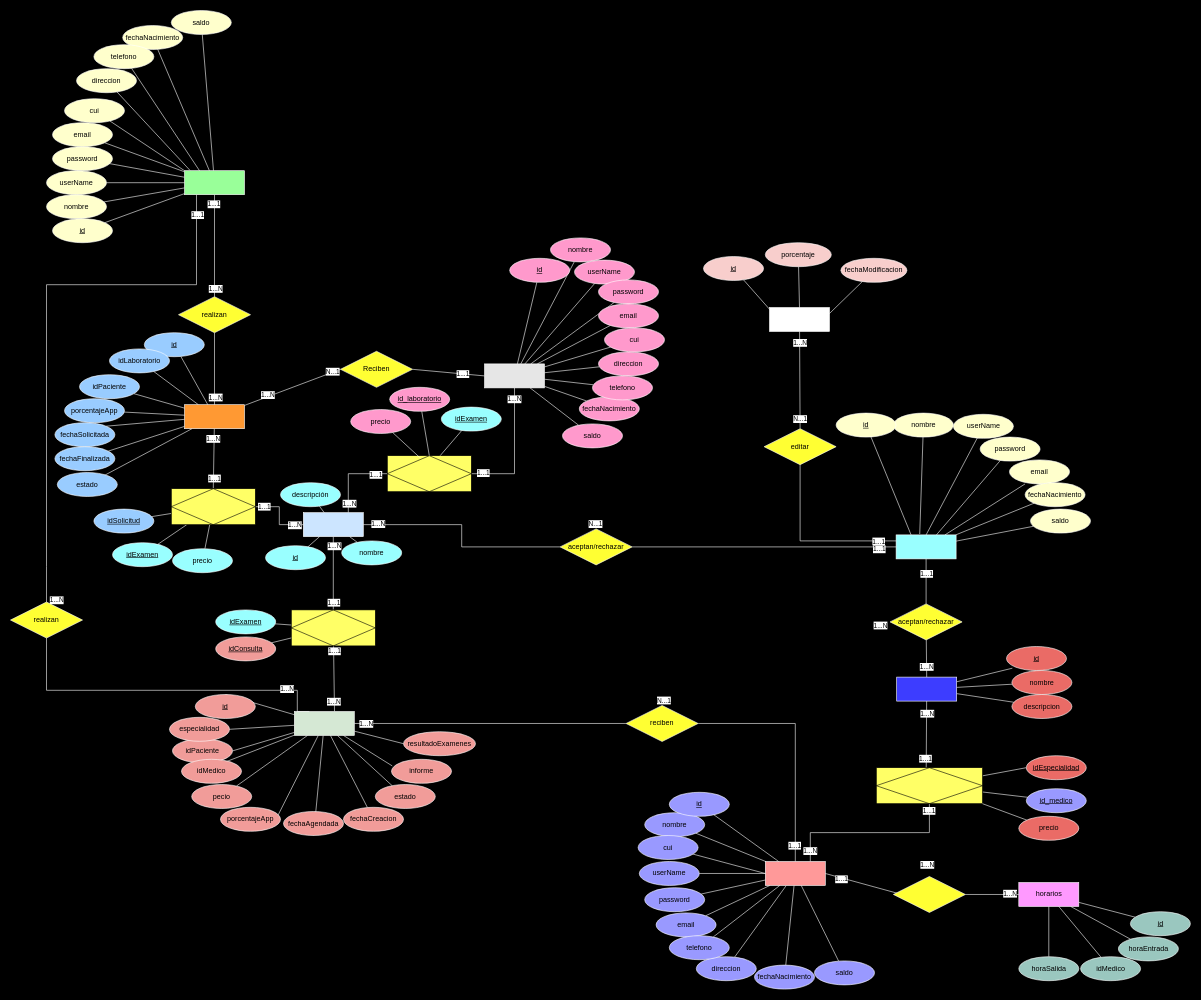
Some shapes in this 1201 by 1000 pixel diagram are drawn without their labels. The shapes that lost their labels are listed below. From the top down, each one's centre as x and y in pixels, then its label:
(x=214, y=182): pacientes
(x=799, y=319): cobroApp
(x=514, y=375): laboratorios
(x=214, y=416): solicitudes
(x=429, y=473): examenes_laboratorios
(x=213, y=506): examenes_solicitud
(x=333, y=524): examenes
(x=926, y=546): administrador
(x=333, y=627): examenes_consulta
(x=926, y=688): especialidades
(x=324, y=723): consultas
(x=929, y=785): especialidades_medicos
(x=795, y=873): medicos
(x=929, y=894): tienen
